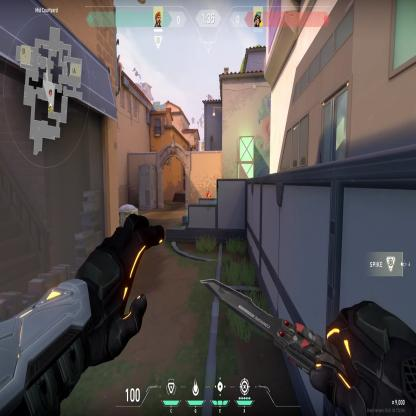enemy: (204, 187, 212, 198)
